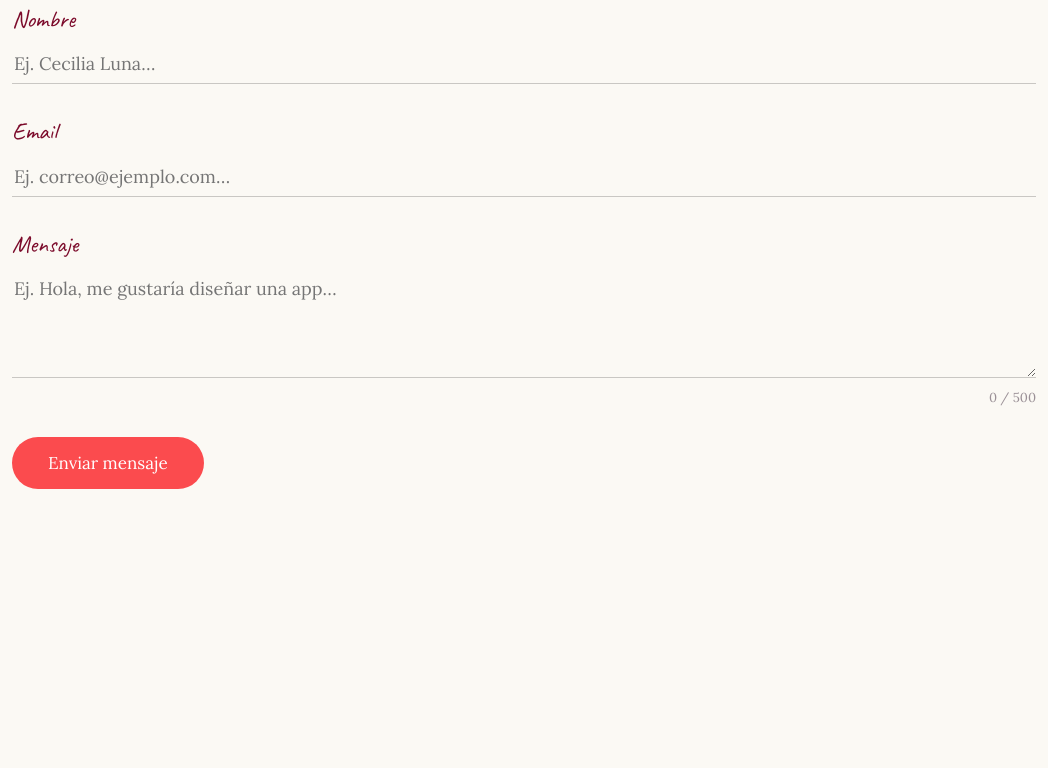
Test: ContactForm › envía el formulario correctamente con datos válidos
The width and height of the screenshot is (1048, 768).
Type "Juan Pérez" into the field labelled "Nombre".
click(524, 64); type("Juan Pérez")  # box 12,44 -> 1036,84
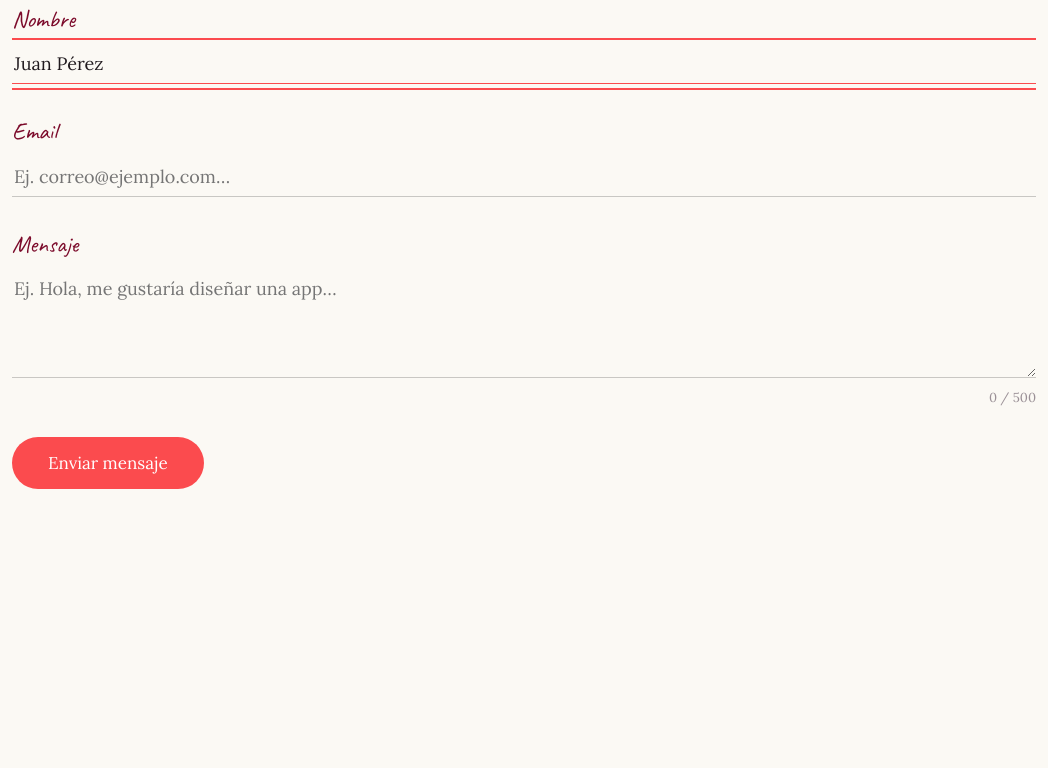
Type "juan@example.com" into the field labelled "Email".
click(524, 177); type("juan@example.com")  # box 12,157 -> 1036,197
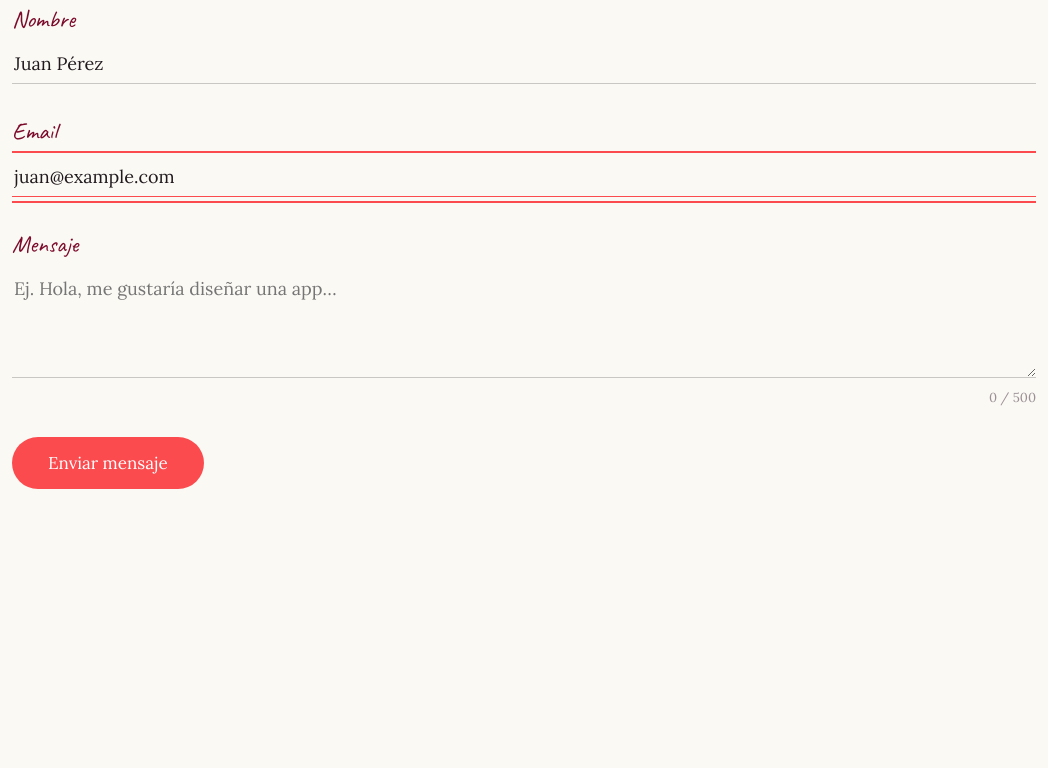
Type "Este es un mensaje de prueba" into the text box labelled "Mensaje".
click(524, 324); type("Este es un mensaje de prueba")  # box 12,269 -> 1036,378
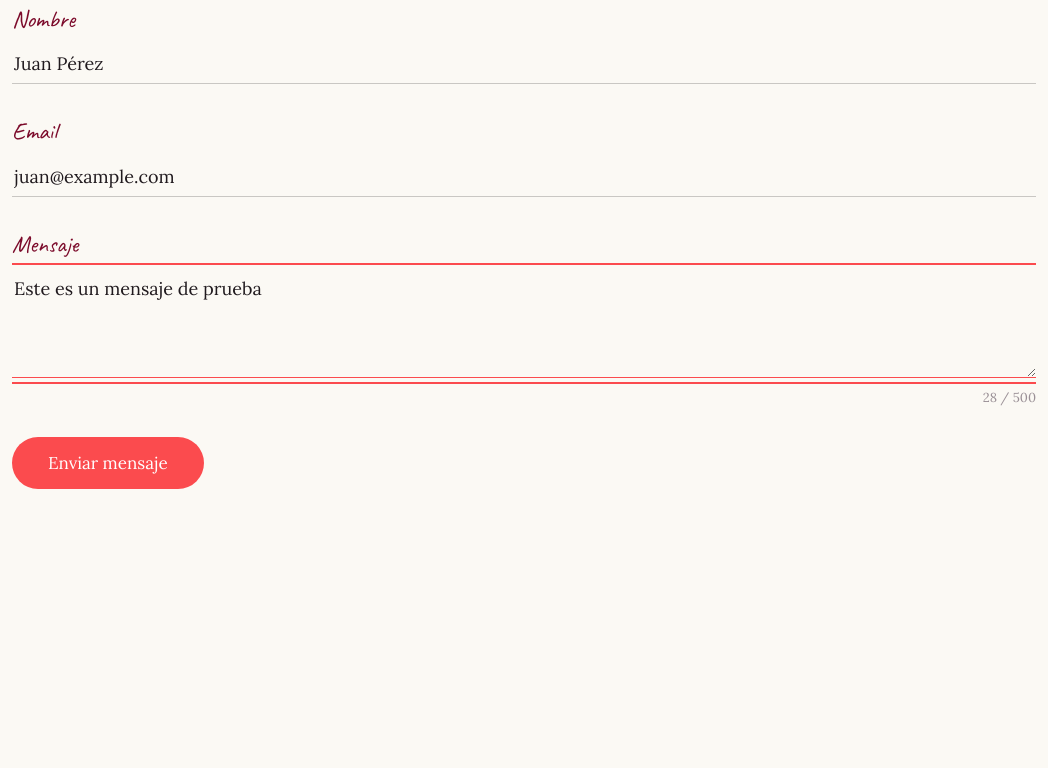
Click the button "Enviar mensaje".
click(108, 463)  # box 12,437 -> 204,489
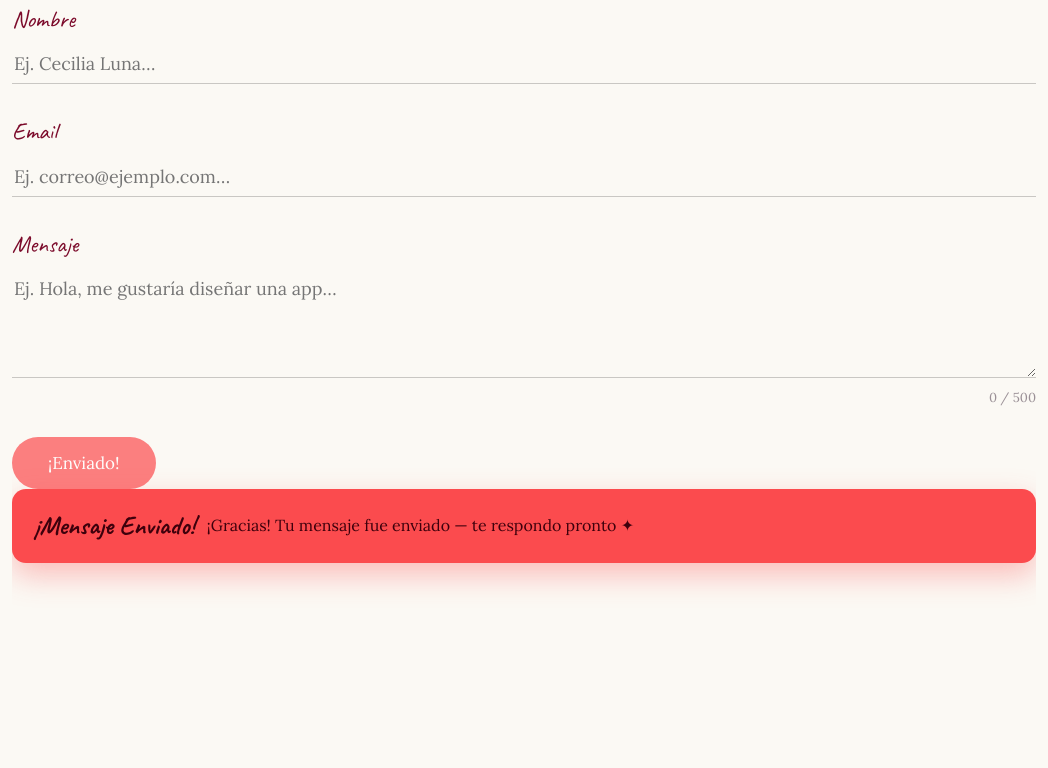
expect the text "¡Mensaje Enviado!" is shown: met, box 34,505 -> 195,547
